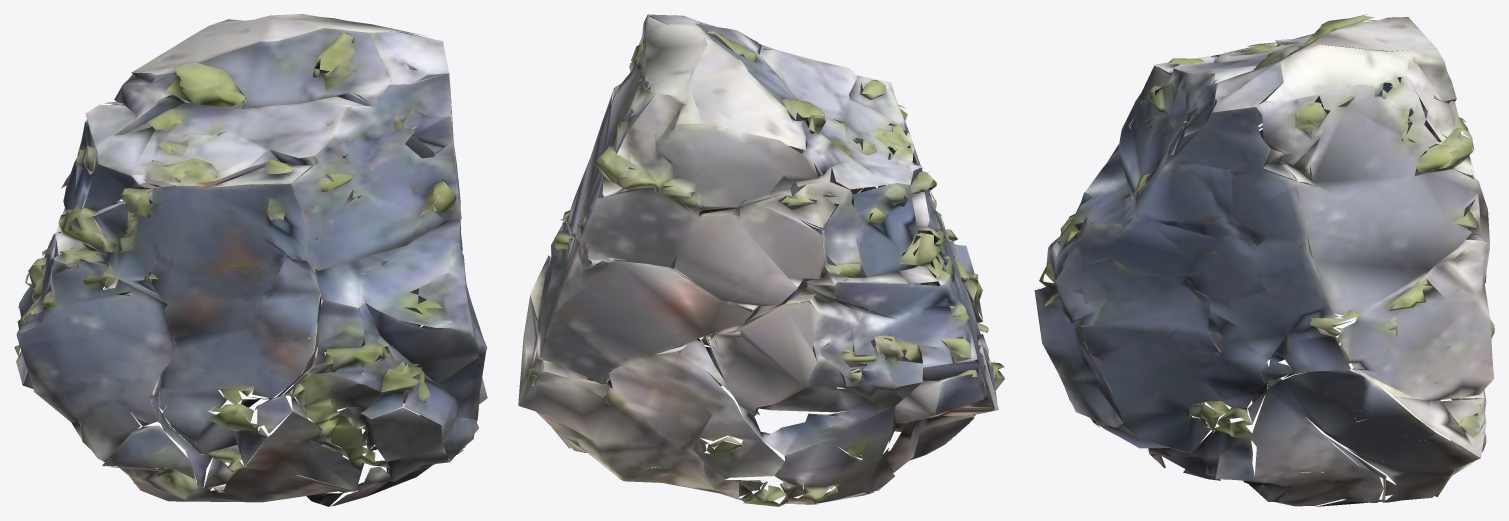
File: roca_grande1.movil.glb
3 views of the same model, side by side, from view 1: azimuth 30°, elevation 25°; view 2: azimuth 150°, elevation 25°; view 3: azimuth 270°, elevation 25° (orthographic). The views are drawn at different scales.
Parts seen in each view (by area): view 1: geometry_0; view 2: geometry_0; view 3: geometry_0.
Boxes of the visible parts, x1,y1,x2,y2 form: geometry_0: (14,14,487,506); geometry_0: (518,14,1004,506); geometry_0: (1034,14,1494,506).
Size of the model in its own units: 3.41 by 3 by 3.
1 material, 1 textured.
